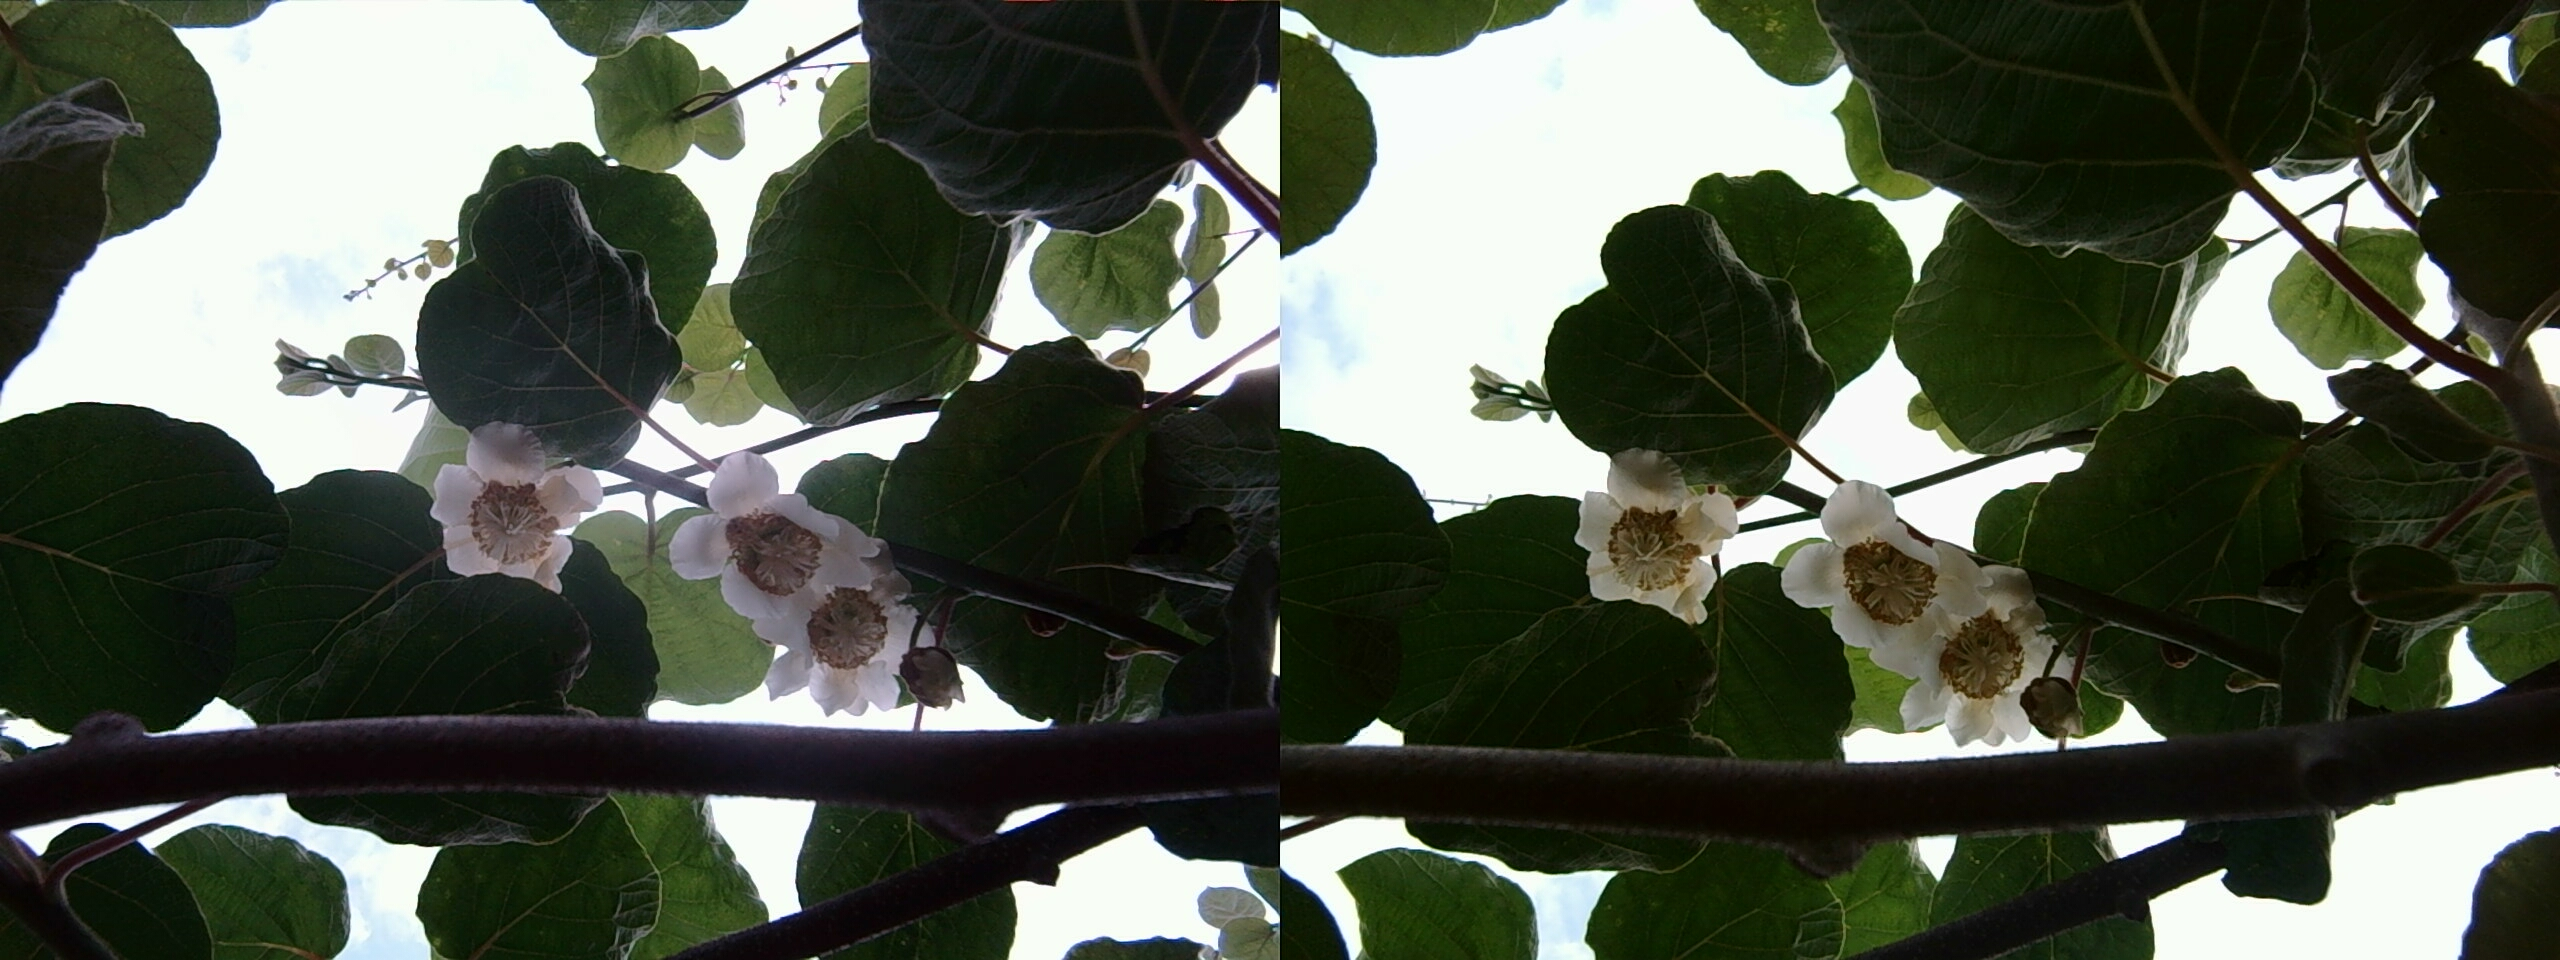flower: (1789, 473, 2090, 744), (678, 469, 958, 717), (415, 413, 609, 594), (1562, 446, 1745, 622)
